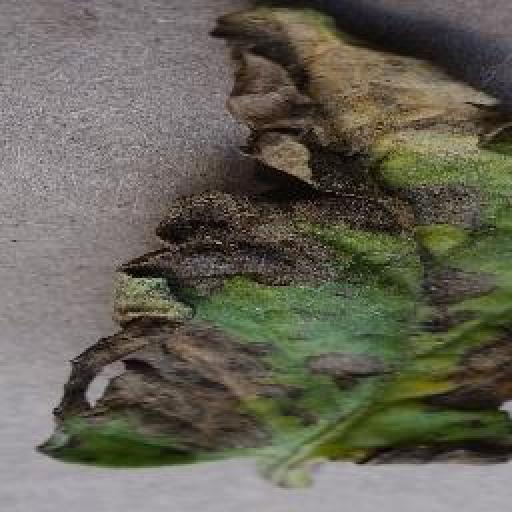Early Blight: (38, 5, 512, 471)
